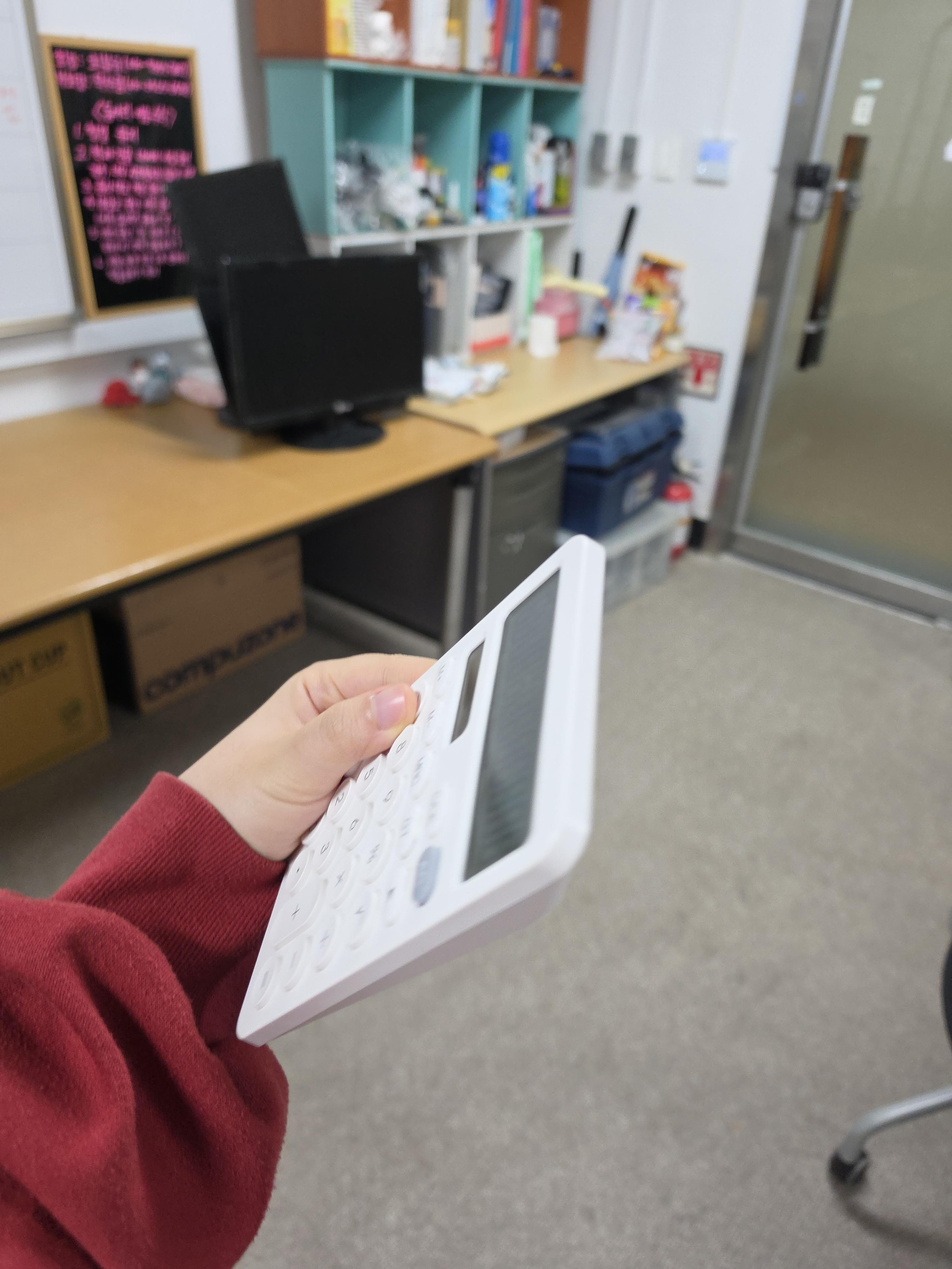calculator: (235, 534, 605, 1047)
